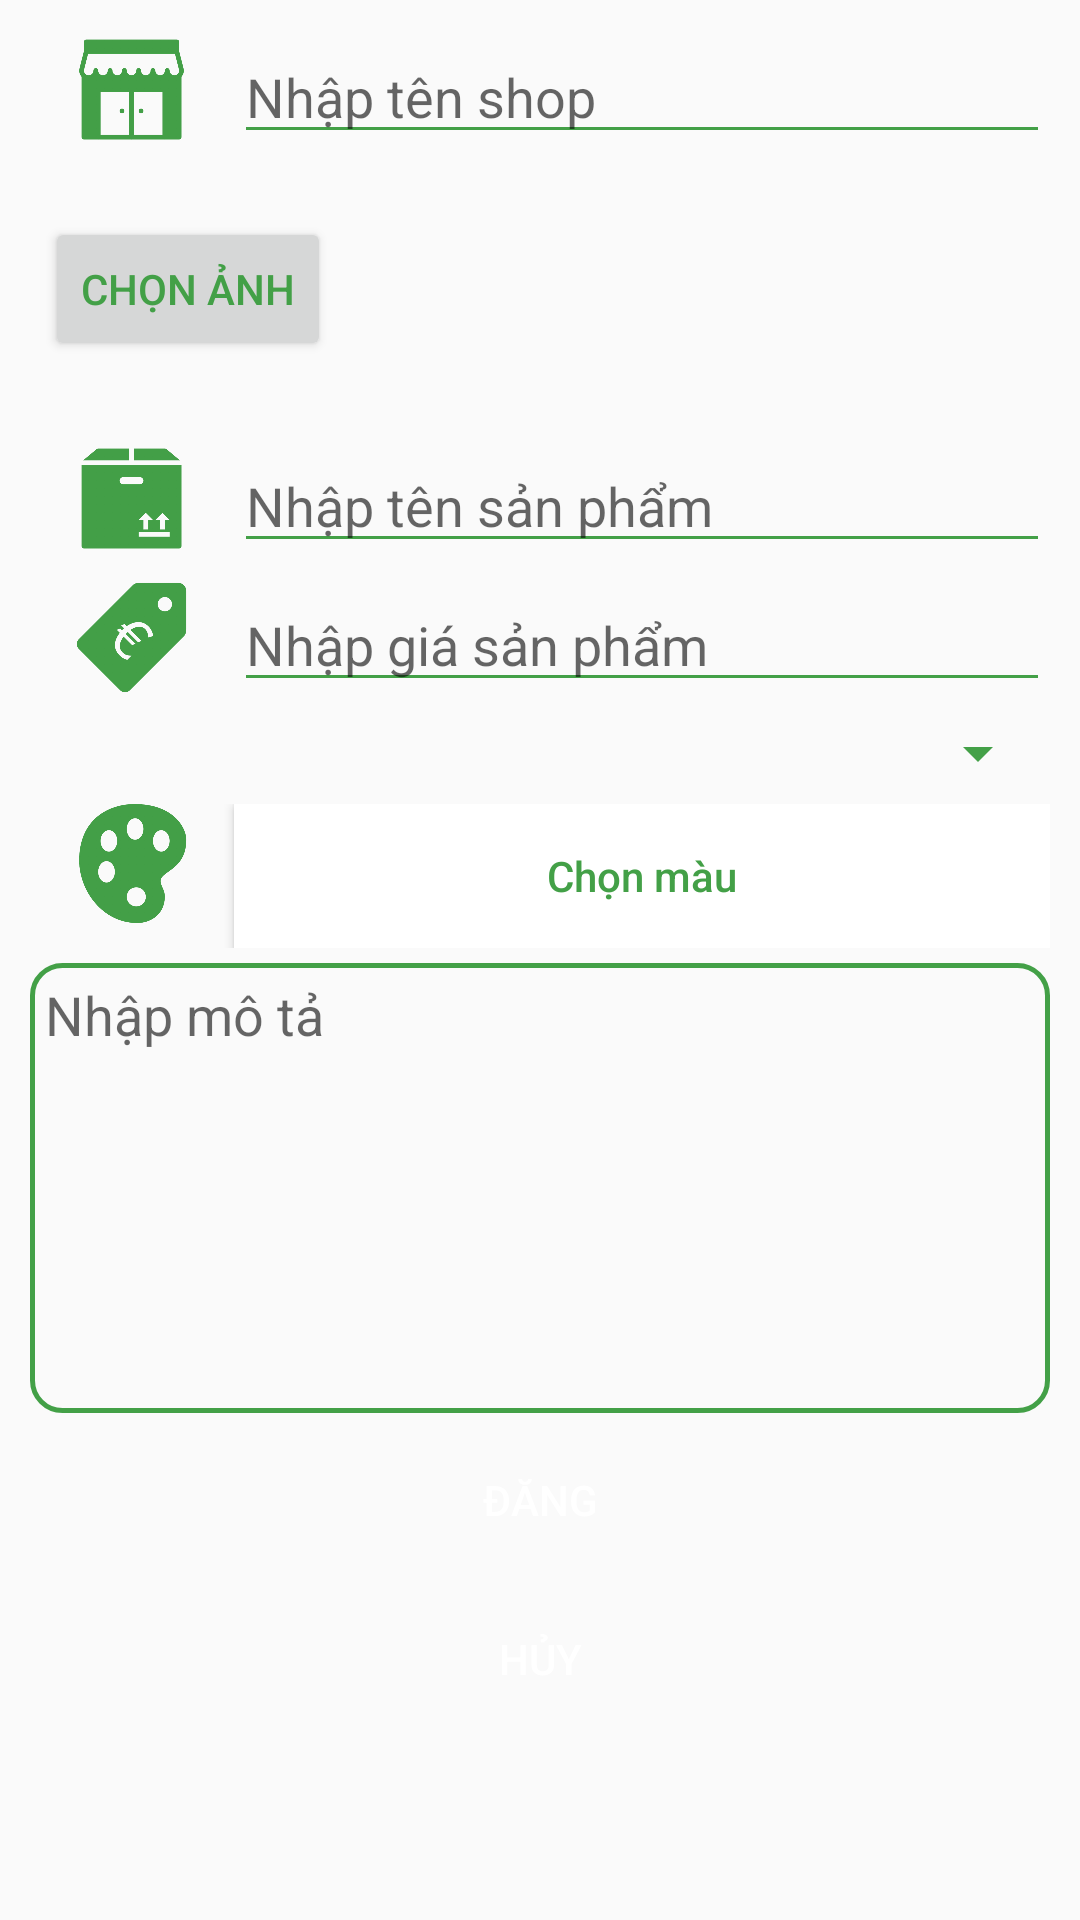

Named icons in this screenshot (1080 × 1920) and their bounding boxes, (x1, y1, x2, y2):
price: (77, 583, 186, 692)
product: (81, 448, 182, 549)
